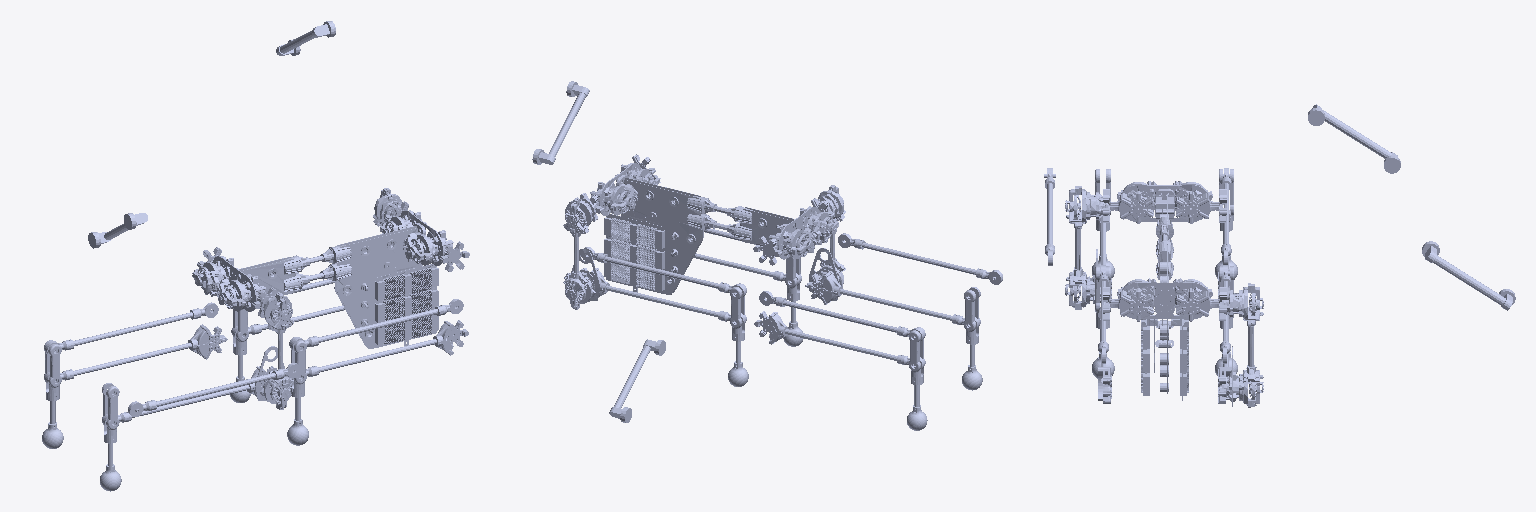
--- Render facts (derived) ---
The picture shows the robot from 3 angles, left to right: view 1: azimuth 30°, elevation 25°; view 2: azimuth 150°, elevation 25°; view 3: azimuth 270°, elevation 25°; orthographic projection.
Robot: husky — 21 links, 20 joints (16 revolute, 4 continuous); root link Body; default pose: all joints at 0.
Visible links, largest first — view 1: Body, femur_rr, tibia_rl, tibia_fr, tarsus_rr, tarsus_rl, link_rr, tarsus_fr, link_fr, link_rl, tarsus_fl, tibia_rr (+4 smaller); view 2: Body, femur_fl, tibia_rr, tibia_rl, femur_rr, tarsus_rr, tarsus_rl, tarsus_fl, link_rr, link_rl, femur_fr, femur_rl (+5 smaller); view 3: Body, femur_fl, femur_rr, femur_rl, femur_fr, hip_rl, hip_fl, hip_fr, hip_rr, link_rr, tarsus_fr, tibia_fr.
Link boxes in pixels (left/top/right/bottom): Body: left=192, top=210, right=445, bottom=348; femur_rr: left=255, top=292, right=293, bottom=409; tibia_rl: left=45, top=324, right=227, bottom=384; tibia_fr: left=293, top=320, right=468, bottom=379; tarsus_rr: left=100, top=383, right=121, bottom=491; tarsus_rl: left=42, top=340, right=63, bottom=448; link_rr: left=128, top=363, right=300, bottom=416; tarsus_fr: left=287, top=337, right=308, bottom=445; link_fr: left=290, top=299, right=463, bottom=351; link_rl: left=45, top=302, right=218, bottom=355; tarsus_fl: left=230, top=309, right=250, bottom=402; tibia_rr: left=103, top=366, right=273, bottom=426; Body: left=598, top=163, right=838, bottom=294; femur_fl: left=563, top=197, right=600, bottom=309; tibia_rr: left=805, top=272, right=979, bottom=328; tibia_rl: left=754, top=311, right=924, bottom=368; femur_rr: left=809, top=185, right=845, bottom=300; tarsus_rr: left=962, top=287, right=982, bottom=390; tarsus_rl: left=907, top=327, right=927, bottom=430; tarsus_fl: left=728, top=283, right=748, bottom=386; link_rr: left=838, top=233, right=1002, bottom=284; link_rl: left=759, top=291, right=924, bottom=341; femur_fr: left=532, top=81, right=589, bottom=164; femur_rl: left=609, top=339, right=665, bottom=422; Body: left=1117, top=181, right=1212, bottom=400; femur_fl: left=1222, top=283, right=1263, bottom=407; femur_rr: left=1065, top=186, right=1107, bottom=309; femur_rl: left=1422, top=241, right=1515, bottom=310; femur_fr: left=1308, top=104, right=1400, bottom=173; hip_rl: left=1176, top=189, right=1226, bottom=223; hip_fl: left=1176, top=287, right=1226, bottom=321; hip_fr: left=1103, top=287, right=1153, bottom=321; hip_rr: left=1103, top=189, right=1153, bottom=223; link_rr: left=1044, top=168, right=1055, bottom=265; tarsus_fr: left=1092, top=266, right=1114, bottom=378; tibia_fr: left=1098, top=307, right=1111, bottom=403.
Bounding box of the posed robot: 0.7815 × 0.8064 × 0.6395 m (x, y, z).
Meshes: 21 distinct files referenced, 21 mesh visuals loaded (21 binary STL).

robot.urdf — husky:
<?xml version="1.0" encoding="utf-8"?>
<!-- This URDF was automatically created by SolidWorks to URDF Exporter! Originally created by Stephen Brawner ([email redacted]) 
     Commit Version: 1.5.1-0-g916b5db  Build Version: 1.5.7152.31018
     For more information, please see http://wiki.ros.org/sw_urdf_sporter -->
<robot
  name="husky">
  <link
    name="Body">
    <inertial>
      <origin
        xyz="0.0211071592923378 0 -0.0415232736197185"
        rpy="0 0 0" />
      <mass
        value="0.82234829634822" />
      <inertia
        ixx="0.000459915991926448"
        ixy="8.15944830666836E-13"
        ixz="1.96417515898066E-05"
        iyy="0.000544483864173317"
        iyz="3.07545900066903E-08"
        izz="0.000323732011489045" />
    </inertial>
    <visual>
      <origin
        xyz="0 0 0"
        rpy="0 0 0" />
      <geometry>
        <mesh
          filename="package://husky/meshes/Body.STL" />
      </geometry>
      <material
        name="">
        <color
          rgba="0.792156862745098 0.819607843137255 0.933333333333333 1" />
      </material>
    </visual>
    <collision>
      <origin
        xyz="0 0 0"
        rpy="0 0 0" />
      <geometry>
        <mesh
          filename="package://husky/meshes/Body.STL" />
      </geometry>
    </collision>
  </link>
  <link
    name="hip_rl">
    <inertial>
      <origin
        xyz="-0.004454141 0.02824932 0"
        rpy="0 0 0" />
      <mass
        value="0.0359443182305763" />
      <inertia
        ixx="2.70762134663166E-05"
        ixy="2.3931924096827E-06"
        ixz="5.09943156182198E-09"
        iyy="9.43684872810118E-06"
        iyz="-7.37841303905059E-08"
        izz="2.44222433424521E-05" />
    </inertial>
    <visual>
      <origin
        xyz="0 0 0"
        rpy="0 0 0" />
      <geometry>
        <mesh
          filename="package://husky/meshes/hip_rl.STL" />
      </geometry>
      <material
        name="">
        <color
          rgba="0.792156862745098 0.819607843137255 0.933333333333333 1" />
      </material>
    </visual>
    <collision>
      <origin
        xyz="0 0 0"
        rpy="0 0 0" />
      <geometry>
        <mesh
          filename="package://husky/meshes/hip_rl.STL" />
      </geometry>
    </collision>
  </link>
  <joint
    name="hip_rl_f"
    type="revolute">
    <origin
      xyz="-0.19745 0.045 0"
      rpy="0 0 0" />
    <parent
      link="Body" />
    <child
      link="hip_rl" />
    <axis
      xyz="1 0 0" />
    <limit
      lower="-3.14"
      upper="3.14"
      effort="1000"
      velocity="1000" />
  </joint>
  <link
    name="femur_rl">
    <inertial>
      <origin
        xyz="0 0.0361117637 -0.08282914"
        rpy="0 0 0" />
      <mass
        value="0.152097608878586" />
      <inertia
        ixx="4.39271248910885E-05"
        ixy="6.91552814530331E-10"
        ixz="-1.83185228614627E-08"
        iyy="6.21094780413375E-05"
        iyz="4.58760753059716E-10"
        izz="2.75629448518317E-05" />
    </inertial>
    <visual>
      <origin
        xyz="0 0 0"
        rpy="0 0 0" />
      <geometry>
        <mesh
          filename="package://husky/meshes/femur_rl.STL" />
      </geometry>
      <material
        name="">
        <color
          rgba="0.792156862745098 0.819607843137255 0.933333333333333 1" />
      </material>
    </visual>
    <collision>
      <origin
        xyz="0 0 0"
        rpy="0 0 0" />
      <geometry>
        <mesh
          filename="package://husky/meshes/femur_rl.STL" />
      </geometry>
    </collision>
  </link>
  <joint
    name="hip_rl_s"
    type="revolute">
    <origin
      xyz="-0.007 0.053 0"
      rpy="0 0 0" />
    <parent
      link="hip_rl" />
    <child
      link="femur_rl" />
    <axis
      xyz="0 1 0" />
    <limit
      lower="-3.14"
      upper="3.14"
      effort="1000"
      velocity="1000" />
  </joint>
  <link
    name="tibia_rl">
    <inertial>
      <origin
        xyz="-0.1057537 0.003983084 0"
        rpy="0 0 0" />
      <mass
        value="0.0386281065299358" />
      <inertia
        ixx="7.12522465859726E-06"
        ixy="1.09307273712402E-06"
        ixz="-8.00478110520346E-10"
        iyy="3.48397210023154E-05"
        iyz="-1.63865062956288E-09"
        izz="2.98656007512978E-05" />
    </inertial>
    <visual>
      <origin
        xyz="0 0 0"
        rpy="0 0 0" />
      <geometry>
        <mesh
          filename="package://husky/meshes/tibia_rl.STL" />
      </geometry>
      <material
        name="">
        <color
          rgba="0.792156862745098 0.819607843137255 0.933333333333333 1" />
      </material>
    </visual>
    <collision>
      <origin
        xyz="0 0 0"
        rpy="0 0 0" />
      <geometry>
        <mesh
          filename="package://husky/meshes/tibia_rl.STL" />
      </geometry>
    </collision>
  </link>
  <joint
    name="knee_rl"
    type="revolute">
    <origin
      xyz="0 0 -0.158"
      rpy="0 0 0" />
    <parent
      link="femur_rl" />
    <child
      link="tibia_rl" />
    <axis
      xyz="0 1 0" />
    <limit
      lower="-3.14"
      upper="3.14"
      effort="1000"
      velocity="1000" />
  </joint>
  <link
    name="tarsus_rl">
    <inertial>
      <origin
        xyz="0 0 -0.054555"
        rpy="0 0 0" />
      <mass
        value="0.182843362911726" />
      <inertia
        ixx="0.000120755566797708"
        ixy="-8.51394103095551E-12"
        ixz="-6.94776948529209E-13"
        iyy="0.000116988513204247"
        iyz="3.77436628974131E-12"
        izz="2.51325482776806E-05" />
    </inertial>
    <visual>
      <origin
        xyz="0 0 0"
        rpy="0 0 0" />
      <geometry>
        <mesh
          filename="package://husky/meshes/tarsus_rl.STL" />
      </geometry>
      <material
        name="">
        <color
          rgba="0.792156862745098 0.819607843137255 0.933333333333333 1" />
      </material>
    </visual>
    <collision>
      <origin
        xyz="0 0 0"
        rpy="0 0 0" />
      <geometry>
        <mesh
          filename="package://husky/meshes/tarsus_rl.STL" />
      </geometry>
    </collision>
  </link>
  <joint
    name="ankle_rl"
    type="revolute">
    <origin
      xyz="-0.333 0.0075 0"
      rpy="0 0 0" />
    <parent
      link="tibia_rl" />
    <child
      link="tarsus_rl" />
    <axis
      xyz="0 1 0" />
    <limit
      lower="-3.14"
      upper="3.14"
      effort="1000"
      velocity="1000" />
  </joint>
  <link
    name="link_rl">
    <inertial>
      <origin
        xyz="0.15598 0 0"
        rpy="0 0 0" />
      <mass
        value="0.022231885605909" />
      <inertia
        ixx="9.87556052587583E-07"
        ixy="3.81108638889871E-08"
        ixz="-1.25113408522424E-13"
        iyy="2.53724963631523E-05"
        iyz="-2.76558475727964E-14"
        izz="2.49180597934993E-05" />
    </inertial>
    <visual>
      <origin
        xyz="0 0 0"
        rpy="0 0 0" />
      <geometry>
        <mesh
          filename="package://husky/meshes/link_rl.STL" />
      </geometry>
      <material
        name="">
        <color
          rgba="0.792156862745098 0.819607843137255 0.933333333333333 1" />
      </material>
    </visual>
    <collision>
      <origin
        xyz="0 0 0"
        rpy="0 0 0" />
      <geometry>
        <mesh
          filename="package://husky/meshes/link_rl.STL" />
      </geometry>
    </collision>
  </link>
  <joint
    name="link_rl"
    type="continuous">
    <origin
      xyz="0 0 0.06"
      rpy="0 0 0" />
    <parent
      link="tarsus_rl" />
    <child
      link="link_rl" />
    <axis
      xyz="0 1 0" />
  </joint>
  <link
    name="hip_rr">
    <inertial>
      <origin
        xyz="-0.004454141 -0.02824932 0"
        rpy="0 0 0" />
      <mass
        value="0.0359443183140278" />
      <inertia
        ixx="2.70762137070002E-05"
        ixy="-2.39319246374955E-06"
        ixz="-5.09946868769336E-09"
        iyy="9.43684882222105E-06"
        iyz="-7.37842997255125E-08"
        izz="2.4422243349908E-05" />
    </inertial>
    <visual>
      <origin
        xyz="0 0 0"
        rpy="0 0 0" />
      <geometry>
        <mesh
          filename="package://husky/meshes/hip_rr.STL" />
      </geometry>
      <material
        name="">
        <color
          rgba="0.792156862745098 0.819607843137255 0.933333333333333 1" />
      </material>
    </visual>
    <collision>
      <origin
        xyz="0 0 0"
        rpy="0 0 0" />
      <geometry>
        <mesh
          filename="package://husky/meshes/hip_rr.STL" />
      </geometry>
    </collision>
  </link>
  <joint
    name="hip_rr_f"
    type="revolute">
    <origin
      xyz="-0.19745 -0.045 0"
      rpy="0 0 0" />
    <parent
      link="Body" />
    <child
      link="hip_rr" />
    <axis
      xyz="1 0 0" />
    <limit
      lower="-3.14"
      upper="3.14"
      effort="1000"
      velocity="1000" />
  </joint>
  <link
    name="femur_rr">
    <inertial>
      <origin
        xyz="0 -0.0361117637 -0.08282914"
        rpy="0 0 0" />
      <mass
        value="0.152097608703823" />
      <inertia
        ixx="4.39271248513547E-05"
        ixy="6.91543149797179E-10"
        ixz="1.83187127044182E-08"
        iyy="6.21094779218342E-05"
        iyz="-4.58777022902181E-10"
        izz="2.75629447730204E-05" />
    </inertial>
    <visual>
      <origin
        xyz="0 0 0"
        rpy="0 0 0" />
      <geometry>
        <mesh
          filename="package://husky/meshes/femur_rr.STL" />
      </geometry>
      <material
        name="">
        <color
          rgba="0.792156862745098 0.819607843137255 0.933333333333333 1" />
      </material>
    </visual>
    <collision>
      <origin
        xyz="0 0 0"
        rpy="0 0 0" />
      <geometry>
        <mesh
          filename="package://husky/meshes/femur_rr.STL" />
      </geometry>
    </collision>
  </link>
  <joint
    name="hip_rr_s"
    type="revolute">
    <origin
      xyz="-0.007 -0.053 0"
      rpy="0 0 0" />
    <parent
      link="hip_rr" />
    <child
      link="femur_rr" />
    <axis
      xyz="0 1 0" />
    <limit
      lower="-3.14"
      upper="3.14"
      effort="1000"
      velocity="1000" />
  </joint>
  <link
    name="tibia_rr">
    <inertial>
      <origin
        xyz="-0.1057537 -0.003983084 0"
        rpy="0 0 0" />
      <mass
        value="0.0386281062345205" />
      <inertia
        ixx="7.1252246351902E-06"
        ixy="-1.09307271506804E-06"
        ixz="8.00472745726573E-10"
        iyy="3.48397208700752E-05"
        iyz="-1.63864675282453E-09"
        izz="2.98656006318311E-05" />
    </inertial>
    <visual>
      <origin
        xyz="0 0 0"
        rpy="0 0 0" />
      <geometry>
        <mesh
          filename="package://husky/meshes/tibia_rr.STL" />
      </geometry>
      <material
        name="">
        <color
          rgba="0.792156862745098 0.819607843137255 0.933333333333333 1" />
      </material>
    </visual>
    <collision>
      <origin
        xyz="0 0 0"
        rpy="0 0 0" />
      <geometry>
        <mesh
          filename="package://husky/meshes/tibia_rr.STL" />
      </geometry>
    </collision>
  </link>
  <joint
    name="knee_rr"
    type="revolute">
    <origin
      xyz="0 0 -0.158"
      rpy="0 0 0" />
    <parent
      link="femur_rr" />
    <child
      link="tibia_rr" />
    <axis
      xyz="0 1 0" />
    <limit
      lower="-3.14"
      upper="3.14"
      effort="1000"
      velocity="1000" />
  </joint>
  <link
    name="tarsus_rr">
    <inertial>
      <origin
        xyz="0 0 -0.054555"
        rpy="0 0 0" />
      <mass
        value="0.182843362911726" />
      <inertia
        ixx="0.000120755566797708"
        ixy="-8.51394103298896E-12"
        ixz="6.94777500870091E-13"
        iyy="0.000116988513204247"
        iyz="-3.77436541860114E-12"
        izz="2.51325482776806E-05" />
    </inertial>
    <visual>
      <origin
        xyz="0 0 0"
        rpy="0 0 0" />
      <geometry>
        <mesh
          filename="package://husky/meshes/tarsus_rr.STL" />
      </geometry>
      <material
        name="">
        <color
          rgba="0.792156862745098 0.819607843137255 0.933333333333333 1" />
      </material>
    </visual>
    <collision>
      <origin
        xyz="0 0 0"
        rpy="0 0 0" />
      <geometry>
        <mesh
          filename="package://husky/meshes/tarsus_rr.STL" />
      </geometry>
    </collision>
  </link>
  <joint
    name="ankle_rr"
    type="revolute">
    <origin
      xyz="-0.333 -0.0075 0"
      rpy="0 0 0" />
    <parent
      link="tibia_rr" />
    <child
      link="tarsus_rr" />
    <axis
      xyz="0 1 0" />
    <limit
      lower="-3.14"
      upper="3.14"
      effort="1000"
      velocity="1000" />
  </joint>
  <link
    name="link_rr">
    <inertial>
      <origin
        xyz="0.15598 0 0"
        rpy="0 0 0" />
      <mass
        value="0.0222318856387224" />
      <inertia
        ixx="9.87556053074512E-07"
        ixy="-3.81108638891084E-08"
        ixz="1.25321029989709E-13"
        iyy="2.53724963632346E-05"
        iyz="-2.74003733997187E-14"
        izz="2.4918059793518E-05" />
    </inertial>
    <visual>
      <origin
        xyz="0 0 0"
        rpy="0 0 0" />
      <geometry>
        <mesh
          filename="package://husky/meshes/link_rr.STL" />
      </geometry>
      <material
        name="">
        <color
          rgba="0.792156862745098 0.819607843137255 0.933333333333333 1" />
      </material>
    </visual>
    <collision>
      <origin
        xyz="0 0 0"
        rpy="0 0 0" />
      <geometry>
        <mesh
          filename="package://husky/meshes/link_rr.STL" />
      </geometry>
    </collision>
  </link>
  <joint
    name="link_rr"
    type="continuous">
    <origin
      xyz="0 0 0.06"
      rpy="0 0 0" />
    <parent
      link="tarsus_rr" />
    <child
      link="link_rr" />
    <axis
      xyz="0 1 0" />
  </joint>
  <link
    name="hip_fl">
    <inertial>
      <origin
        xyz="-0.004454141 0.02824932 0"
        rpy="0 0 0" />
      <mass
        value="0.0359443185115185" />
      <inertia
        ixx="2.70762138492206E-05"
        ixy="2.39319249507143E-06"
        ixz="5.09944659882223E-09"
        iyy="9.43684894485697E-06"
        iyz="-7.37842386043371E-08"
        izz="2.44222434072564E-05" />
    </inertial>
    <visual>
      <origin
        xyz="0 0 0"
        rpy="0 0 0" />
      <geometry>
        <mesh
          filename="package://husky/meshes/hip_fl.STL" />
      </geometry>
      <material
        name="">
        <color
          rgba="0.792156862745098 0.819607843137255 0.933333333333333 1" />
      </material>
    </visual>
    <collision>
      <origin
        xyz="0 0 0"
        rpy="0 0 0" />
      <geometry>
        <mesh
          filename="package://husky/meshes/hip_fl.STL" />
      </geometry>
    </collision>
  </link>
  <joint
    name="hip_fl_f"
    type="revolute">
    <origin
      xyz="0.19745 0.045 0"
      rpy="0 0 0" />
    <parent
      link="Body" />
    <child
      link="hip_fl" />
    <axis
      xyz="1 0 0" />
    <limit
      lower="-3.14"
      upper="3.14"
      effort="1000"
      velocity="1000" />
  </joint>
  <link
    name="femur_fl">
    <inertial>
      <origin
        xyz="0 0.0361117637 -0.08282914"
        rpy="0 0 0" />
      <mass
        value="0.152097609273322" />
      <inertia
        ixx="4.39271251028734E-05"
        ixy="6.91540064901458E-10"
        ixz="-1.83184904386034E-08"
        iyy="6.21094782699363E-05"
        iyz="4.58746027892432E-10"
        izz="2.75629448679641E-05" />
    </inertial>
    <visual>
      <origin
        xyz="0 0 0"
        rpy="0 0 0" />
      <geometry>
        <mesh
          filename="package://husky/meshes/femur_fl.STL" />
      </geometry>
      <material
        name="">
        <color
          rgba="0.792156862745098 0.819607843137255 0.933333333333333 1" />
      </material>
    </visual>
    <collision>
      <origin
        xyz="0 0 0"
        rpy="0 0 0" />
      <geometry>
        <mesh
          filename="package://husky/meshes/femur_fl.STL" />
      </geometry>
    </collision>
  </link>
  <joint
    name="hip_fl_s"
    type="revolute">
    <origin
      xyz="-0.007 0.053 0"
      rpy="0 0 0" />
    <parent
      link="hip_fl" />
    <child
      link="femur_fl" />
    <axis
      xyz="0 1 0" />
    <limit
      lower="-3.14"
      upper="3.14"
      effort="1000"
      velocity="1000" />
  </joint>
  <link
    name="tibia_fl">
    <inertial>
      <origin
        xyz="-0.1057537 0.003983084 0"
        rpy="0 0 0" />
      <mass
        value="0.0386281076645603" />
      <inertia
        ixx="7.12522522586293E-06"
        ixy="1.0930728048501E-06"
        ixz="-8.00870067195263E-10"
        iyy="3.4839722028018E-05"
        iyz="-1.6386268554641E-09"
        izz="2.98656012518756E-05" />
    </inertial>
    <visual>
      <origin
        xyz="0 0 0"
        rpy="0 0 0" />
      <geometry>
        <mesh
          filename="package://husky/meshes/tibia_fl.STL" />
      </geometry>
      <material
        name="">
        <color
          rgba="0.792156862745098 0.819607843137255 0.933333333333333 1" />
      </material>
    </visual>
    <collision>
      <origin
        xyz="0 0 0"
        rpy="0 0 0" />
      <geometry>
        <mesh
          filename="package://husky/meshes/tibia_fl.STL" />
      </geometry>
    </collision>
  </link>
  <joint
    name="knee_fl"
    type="revolute">
    <origin
      xyz="0 0 -0.158"
      rpy="0 0 0" />
    <parent
      link="femur_fl" />
    <child
      link="tibia_fl" />
    <axis
      xyz="0 1 0" />
    <limit
      lower="-3.14"
      upper="3.14"
      effort="1000"
      velocity="1000" />
  </joint>
  <link
    name="tarsus_fl">
    <inertial>
      <origin
        xyz="0 0 -0.054555"
        rpy="0 0 0" />
      <mass
        value="0.182843362911726" />
      <inertia
        ixx="0.000120755566797708"
        ixy="-8.51394104017069E-12"
        ixz="6.94777373490634E-13"
        iyy="0.000116988513204247"
        iyz="-3.77436543268781E-12"
        izz="2.51325482776806E-05" />
    </inertial>
    <visual>
      <origin
        xyz="0 0 0"
        rpy="0 0 0" />
      <geometry>
        <mesh
          filename="package://husky/meshes/tarsus_fl.STL" />
      </geometry>
      <material
        name="">
        <color
          rgba="0.792156862745098 0.819607843137255 0.933333333333333 1" />
      </material>
    </visual>
    <collision>
      <origin
        xyz="0 0 0"
        rpy="0 0 0" />
      <geometry>
        <mesh
          filename="package://husky/meshes/tarsus_fl.STL" />
      </geometry>
    </collision>
  </link>
  <joint
    name="ankle_fl"
    type="revolute">
    <origin
      xyz="-0.333 0.0075 0"
      rpy="0 0 0" />
    <parent
      link="tibia_fl" />
    <child
      link="tarsus_fl" />
    <axis
      xyz="0 1 0" />
    <limit
      lower="-3.14"
      upper="3.14"
      effort="1000"
      velocity="1000" />
  </joint>
  <link
    name="link_fl">
    <inertial>
      <origin
        xyz="0.15598 0 0"
        rpy="0 0 0" />
      <mass
        value="0.0222318856059" />
      <inertia
        ixx="9.87556052587465E-07"
        ixy="3.81108638889694E-08"
        ixz="-1.25321108906669E-13"
        iyy="2.53724963631525E-05"
        iyz="-2.76554512146632E-14"
        izz="2.49180597934994E-05" />
    </inertial>
    <visual>
      <origin
        xyz="0 0 0"
        rpy="0 0 0" />
      <geometry>
        <mesh
          filename="package://husky/meshes/link_fl.STL" />
      </geometry>
      <material
        name="">
        <color
          rgba="0.792156862745098 0.819607843137255 0.933333333333333 1" />
      </material>
    </visual>
    <collision>
      <origin
        xyz="0 0 0"
        rpy="0 0 0" />
      <geometry>
        <mesh
          filename="package://husky/meshes/link_fl.STL" />
      </geometry>
    </collision>
  </link>
  <joint
    name="link_fl"
    type="continuous">
    <origin
      xyz="0 0 0.06"
      rpy="0 0 0" />
    <parent
      link="tarsus_fl" />
    <child
      link="link_fl" />
    <axis
      xyz="0 1 0" />
  </joint>
  <link
    name="hip_fr">
    <inertial>
      <origin
        xyz="-0.004454141 -0.02824932 0"
        rpy="0 0 0" />
      <mass
        value="0.0359443185115185" />
      <inertia
        ixx="2.63878354499132E-05"
        ixy="-2.33234864755538E-06"
        ixz="-4.96980651907523E-09"
        iyy="9.19692903297758E-06"
        iyz="-7.19084532938084E-08"
        izz="2.380133902073E-05" />
    </inertial>
    <visual>
      <origin
        xyz="0 0 0"
        rpy="0 0 0" />
      <geometry>
        <mesh
          filename="package://husky/meshes/hip_fr.STL" />
      </geometry>
      <material
        name="">
        <color
          rgba="0.792156862745098 0.819607843137255 0.933333333333333 1" />
      </material>
    </visual>
    <collision>
      <origin
        xyz="0 0 0"
        rpy="0 0 0" />
      <geometry>
        <mesh
          filename="package://husky/meshes/hip_fr.STL" />
      </geometry>
    </collision>
  </link>
  <joint
    name="hip_fr_f"
    type="revolute">
    <origin
      xyz="0.19745 -0.045 0"
      rpy="0 0 0" />
    <parent
      link="Body" />
    <child
      link="hip_fr" />
    <axis
      xyz="1 0 0" />
    <limit
      lower="-3.14"
      upper="3.14"
      effort="1000"
      velocity="1000" />
  </joint>
  <link
    name="femur_fr">
    <inertial>
      <origin
        xyz="0 -0.0361117637 -0.08282914"
        rpy="0 0 0" />
      <mass
        value="0.152097609273322" />
      <inertia
        ixx="0.000118603237038913"
        ixy="1.86717159202298E-09"
        ixz="4.94602319659715E-08"
        iyy="0.000167695590354466"
        iyz="-1.23869461907944E-09"
        izz="7.44199509171748E-05" />
    </inertial>
    <visual>
      <origin
        xyz="0 0 0"
        rpy="0 0 0" />
      <geometry>
        <mesh
          filename="package://husky/meshes/femur_fr.STL" />
      </geometry>
      <material
        name="">
        <color
          rgba="0.792156862745098 0.819607843137255 0.933333333333333 1" />
      </material>
    </visual>
    <collision>
      <origin
        xyz="0 0 0"
        rpy="0 0 0" />
      <geometry>
        <mesh
          filename="package://husky/meshes/femur_fr.STL" />
      </geometry>
    </collision>
  </link>
  <joint
    name="hip_fr_s"
    type="revolute">
    <origin
      xyz="-0.007 -0.053 0"
      rpy="0 0 0" />
    <parent
      link="hip_fr" />
    <child
      link="femur_fr" />
    <axis
      xyz="0 1 0" />
    <limit
      lower="-3.14"
      upper="3.14"
      effort="1000"
      velocity="1000" />
  </joint>
  <link
    name="tibia_fr">
    <inertial>
      <origin
        xyz="-0.1057537 -0.003983084 0"
        rpy="0 0 0" />
      <mass
        value="0.0386281075081418" />
      <inertia
        ixx="7.12522516584858E-06"
        ixy="-1.09307276882746E-06"
        ixz="8.00928595508665E-10"
        iyy="3.48397219114748E-05"
        iyz="-1.63860403815178E-09"
        izz="2.98656011686537E-05" />
    </inertial>
    <visual>
      <origin
        xyz="0 0 0"
        rpy="0 0 0" />
      <geometry>
        <mesh
          filename="package://husky/meshes/tibia_fr.STL" />
      </geometry>
      <material
        name="">
        <color
          rgba="0.792156862745098 0.819607843137255 0.933333333333333 1" />
      </material>
    </visual>
    <collision>
      <origin
        xyz="0 0 0"
        rpy="0 0 0" />
      <geometry>
        <mesh
          filename="package://husky/meshes/tibia_fr.STL" />
      </geometry>
    </collision>
  </link>
  <joint
    name="knee_fr"
    type="revolute">
    <origin
      xyz="0 0 -0.158"
      rpy="0 0 0" />
    <parent
      link="femur_fr" />
    <child
      link="tibia_fr" />
    <axis
      xyz="0 1 0" />
    <limit
      lower="-3.14"
      upper="3.14"
      effort="1000"
      velocity="1000" />
  </joint>
  <link
    name="tarsus_fr">
    <inertial>
      <origin
        xyz="0 0 -0.054555"
        rpy="0 0 0" />
      <mass
        value="0.182843362911727" />
      <inertia
        ixx="0.000120755566797709"
        ixy="-8.51394103341617E-12"
        ixz="-6.94776949111306E-13"
        iyy="0.000116988513204248"
        iyz="3.7743664336136E-12"
        izz="2.51325482776806E-05" />
    </inertial>
    <visual>
      <origin
        xyz="0 0 0"
        rpy="0 0 0" />
      <geometry>
        <mesh
          filename="package://husky/meshes/tarsus_fr.STL" />
      </geometry>
      <material
        name="">
        <color
          rgba="0.792156862745098 0.819607843137255 0.933333333333333 1" />
      </material>
    </visual>
    <collision>
      <origin
        xyz="0 0 0"
        rpy="0 0 0" />
      <geometry>
        <mesh
          filename="package://husky/meshes/tarsus_fr.STL" />
      </geometry>
    </collision>
  </link>
  <joint
    name="ankle_fr"
    type="revolute">
    <origin
      xyz="-0.333 -0.0075 0"
      rpy="0 0 0" />
    <parent
      link="tibia_fr" />
    <child
      link="tarsus_fr" />
    <axis
      xyz="0 1 0" />
    <limit
      lower="-3.14"
      upper="3.14"
      effort="1000"
      velocity="1000" />
  </joint>
  <link
    name="link_fr">
    <inertial>
      <origin
        xyz="0.15598 0 0"
        rpy="0 0 0" />
      <mass
        value="0.0222318856551154" />
      <inertia
        ixx="9.8755605329094E-07"
        ixy="-3.81108639404438E-08"
        ixz="1.25007421030643E-13"
        iyy="2.5372496363353E-05"
        iyz="-2.75128843832001E-14"
        izz="2.49180597935776E-05" />
    </inertial>
    <visual>
      <origin
        xyz="0 0 0"
        rpy="0 0 0" />
      <geometry>
        <mesh
          filename="package://husky/meshes/link_fr.STL" />
      </geometry>
      <material
        name="">
        <color
          rgba="0.792156862745098 0.819607843137255 0.933333333333333 1" />
      </material>
    </visual>
    <collision>
      <origin
        xyz="0 0 0"
        rpy="0 0 0" />
      <geometry>
        <mesh
          filename="package://husky/meshes/link_fr.STL" />
      </geometry>
    </collision>
  </link>
  <joint
    name="link_fr"
    type="continuous">
    <origin
      xyz="0 0 0.06"
      rpy="0 0 0" />
    <parent
      link="tarsus_fr" />
    <child
      link="link_fr" />
    <axis
      xyz="0 1 0" />
  </joint>
</robot>
